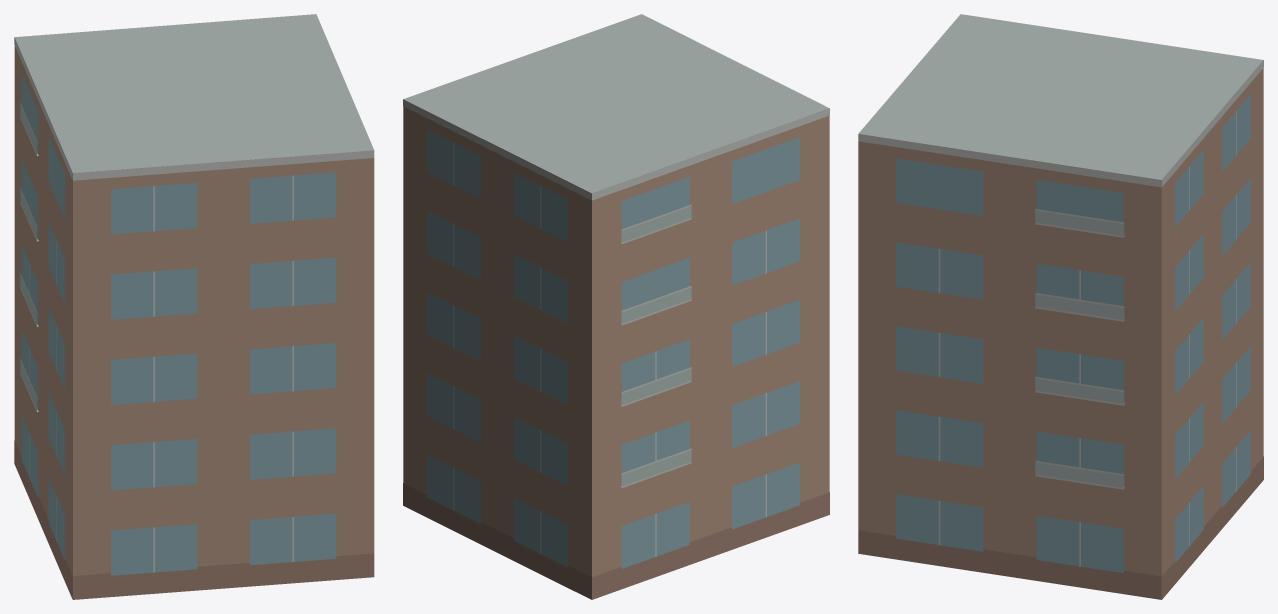
Rendered from survey-upis-32812681.glb.
3 views of the same model, side by side, from view 1: azimuth 30°, elevation 25°; view 2: azimuth 150°, elevation 25°; view 3: azimuth 270°, elevation 25° (orthographic). The views are drawn at different scales.
Parts seen in each view (by area): view 1: survey-upis-32812681.tmp; view 2: survey-upis-32812681.tmp; view 3: survey-upis-32812681.tmp.
Part boxes in pixels (box(x1,y1,x2,y2)): survey-upis-32812681.tmp: box(14, 14, 374, 599); survey-upis-32812681.tmp: box(403, 14, 829, 599); survey-upis-32812681.tmp: box(858, 14, 1263, 599).
Size of the model in its own units: 11.71 by 13.8 by 12.09.
